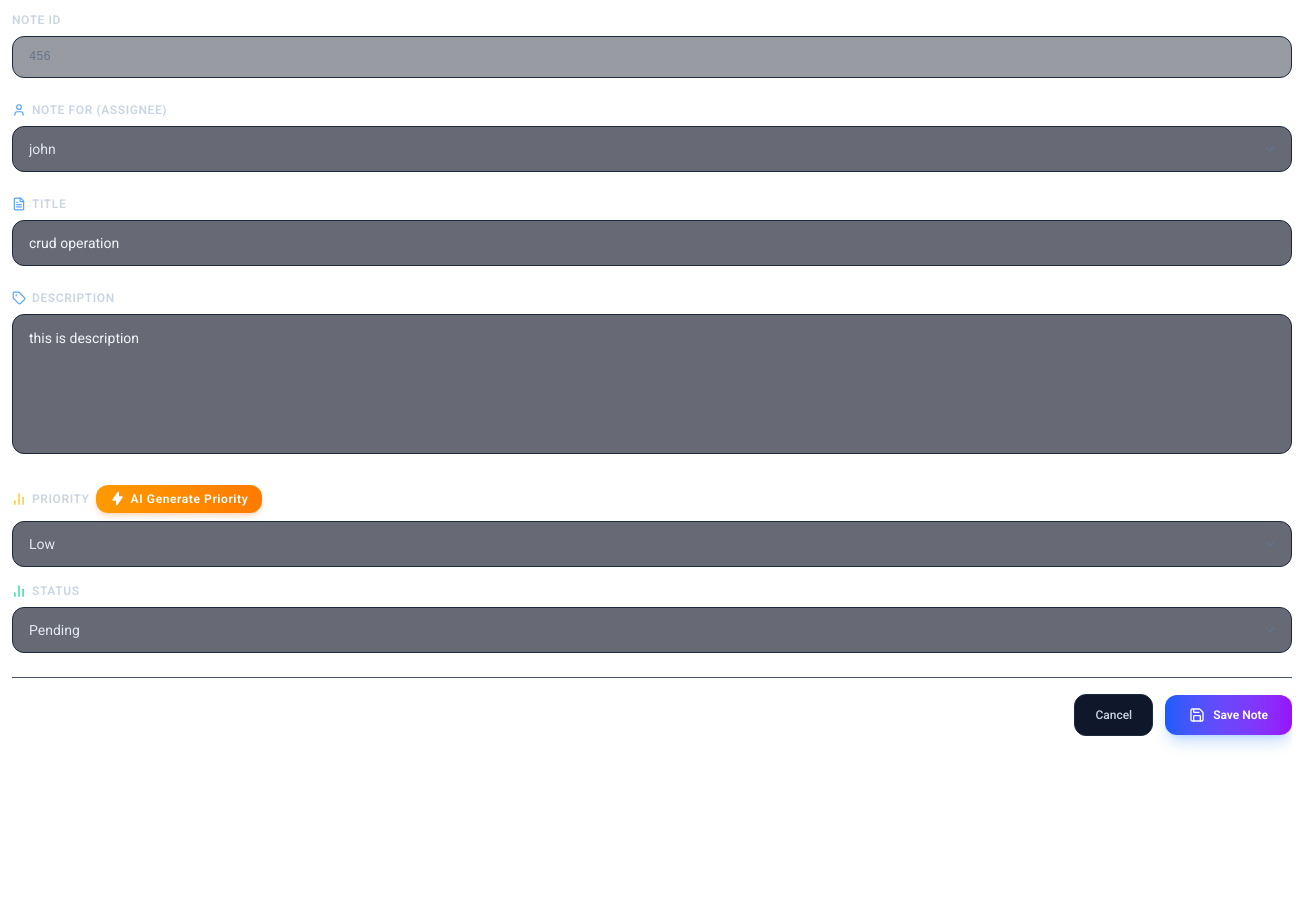
Test case: Edit Note › shall not update note and gives error
The width and height of the screenshot is (1304, 912).
Replace the text in the field with placeholder "Enter note title" with "testing" at coordinates (652, 243), box [12,220,1292,266]
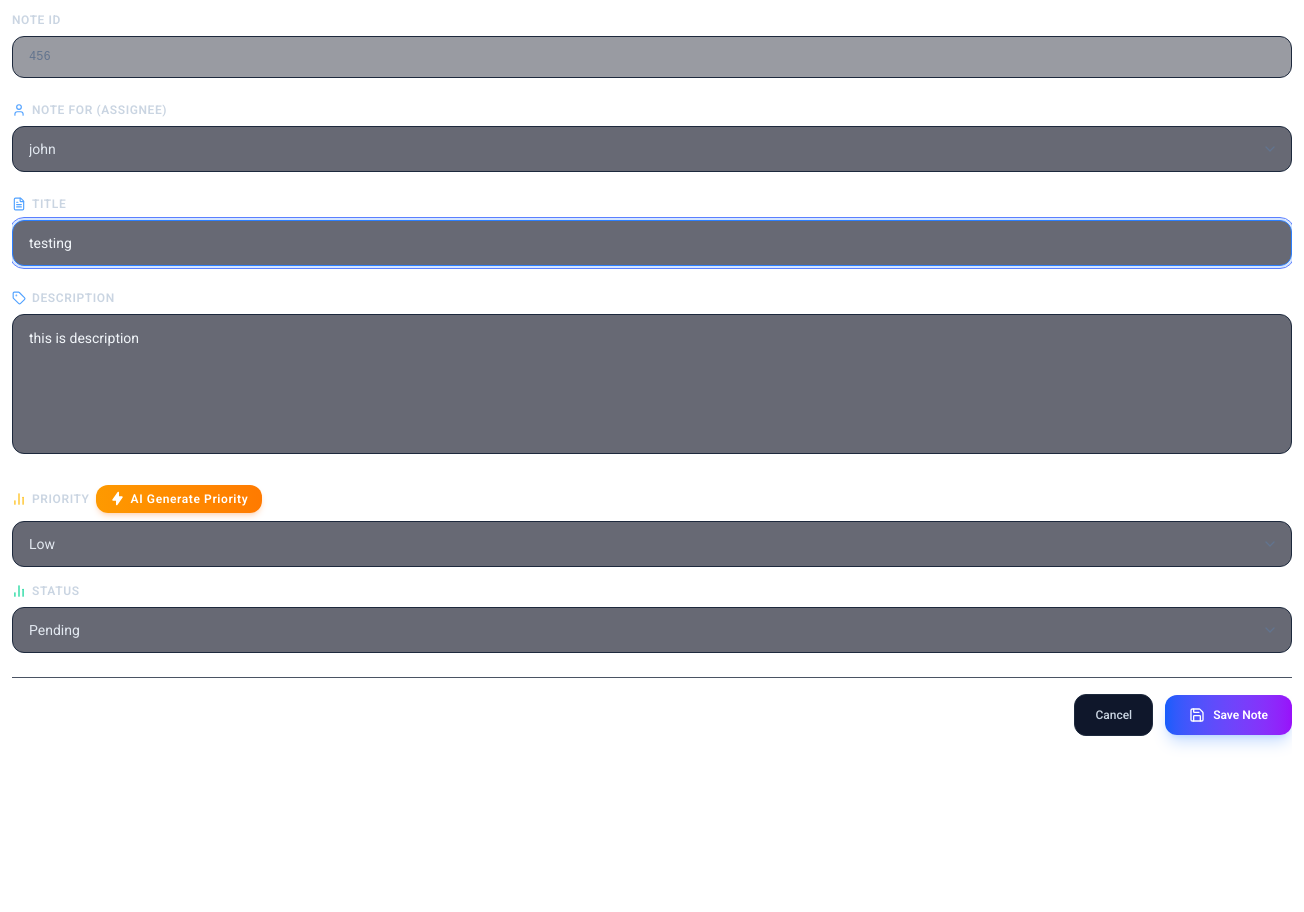
Click the button "Save Note" at coordinates (1229, 715), box [1165,695,1292,735]
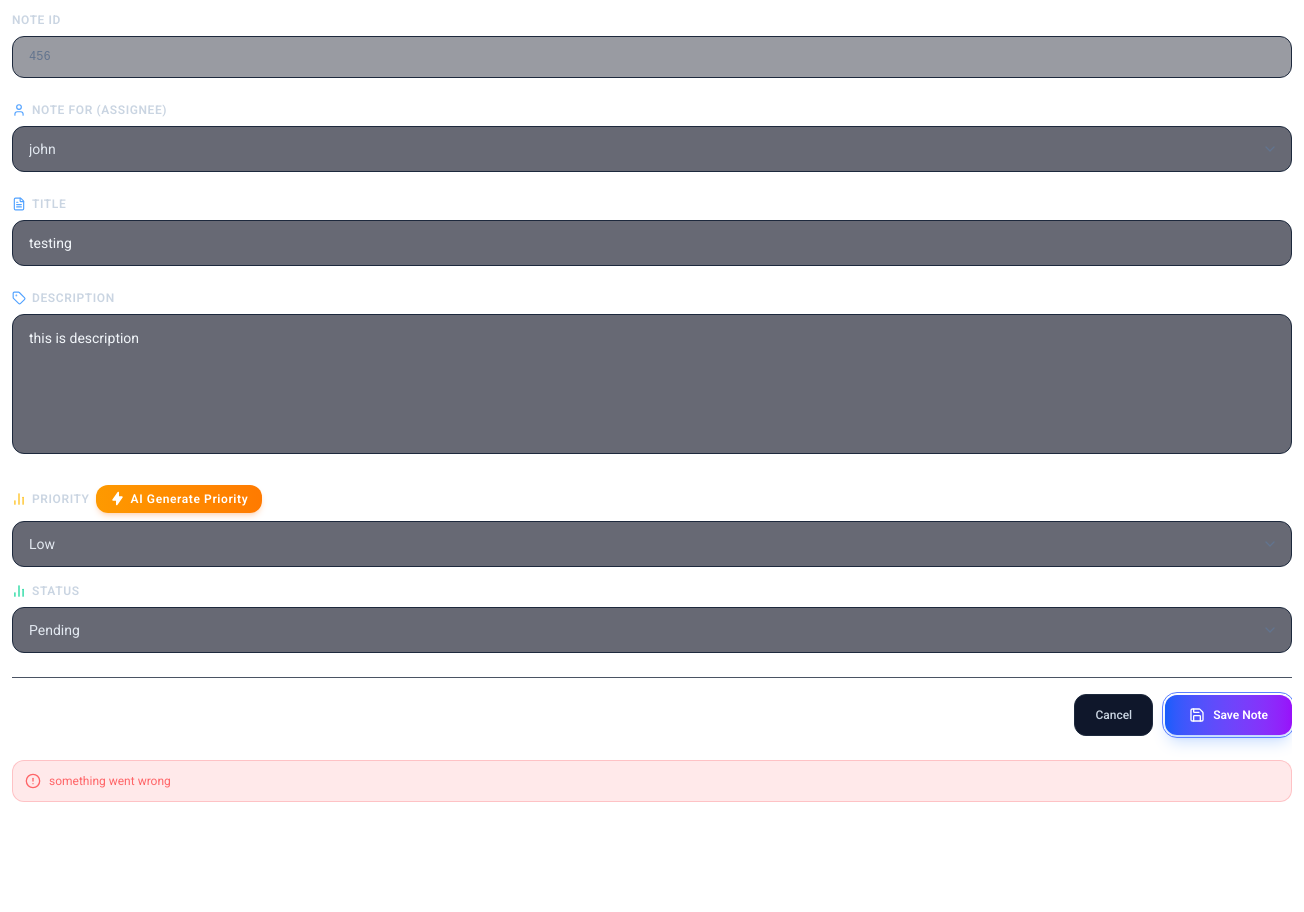
Now the text "something went wrong" is shown, box [49,773,171,789]
